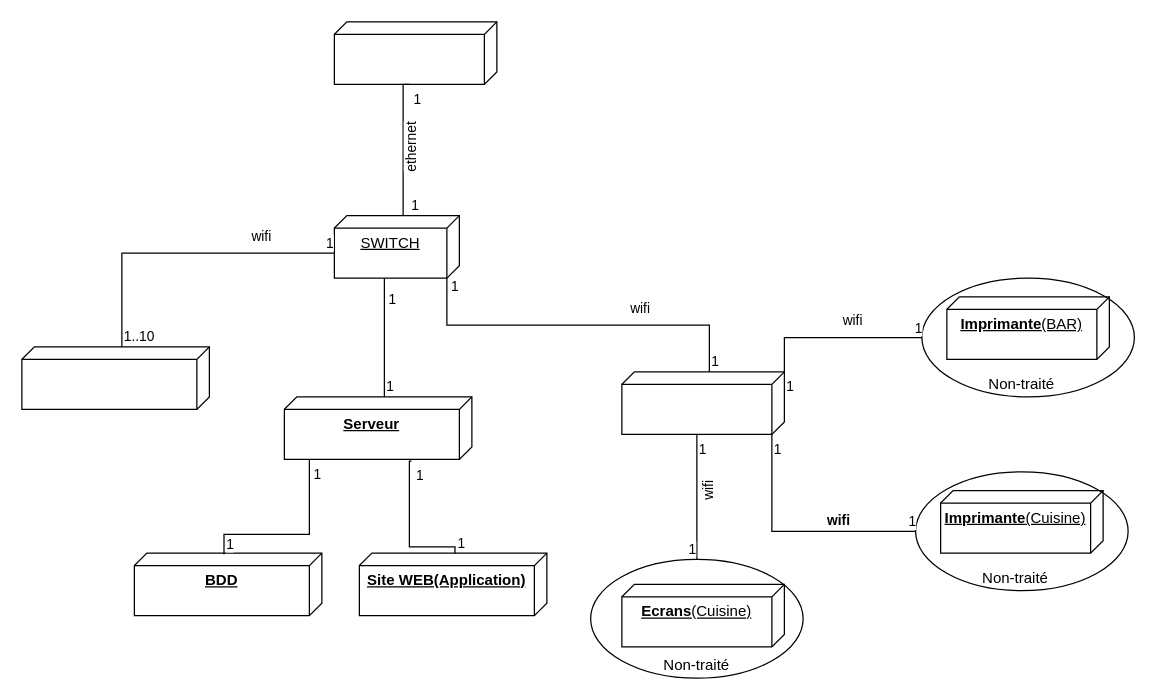
The diagram is 1156 pixels wide and 700 high, and some of its shapes have lost their labels. The centre of each missing label's shape, as x and y in pixels:
"ROUTEUR" belongs at (415,52).
"Tablettes (BAR)" belongs at (702,402).
"Tablettes (COMMANDES)" belongs at (115,377).
